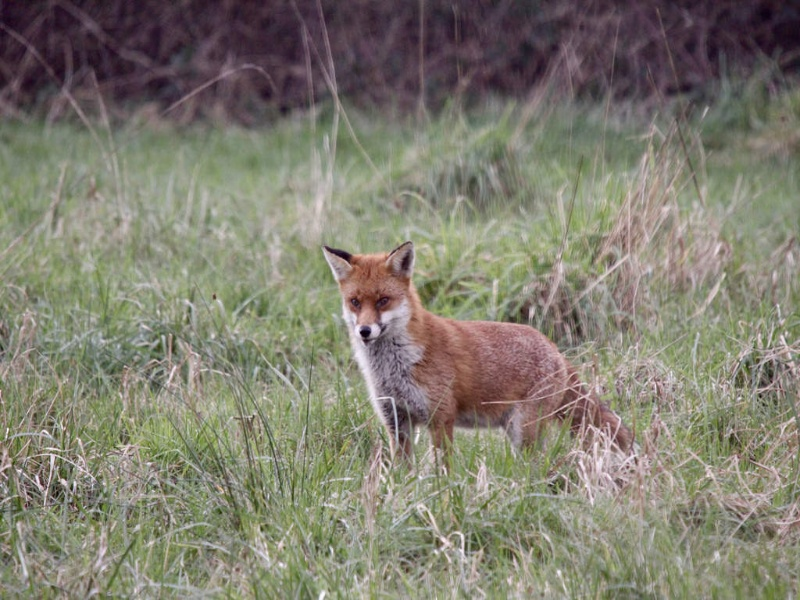fox: (318, 244, 638, 481)
